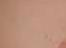plaque psoriasis: (55, 33, 66, 48)
